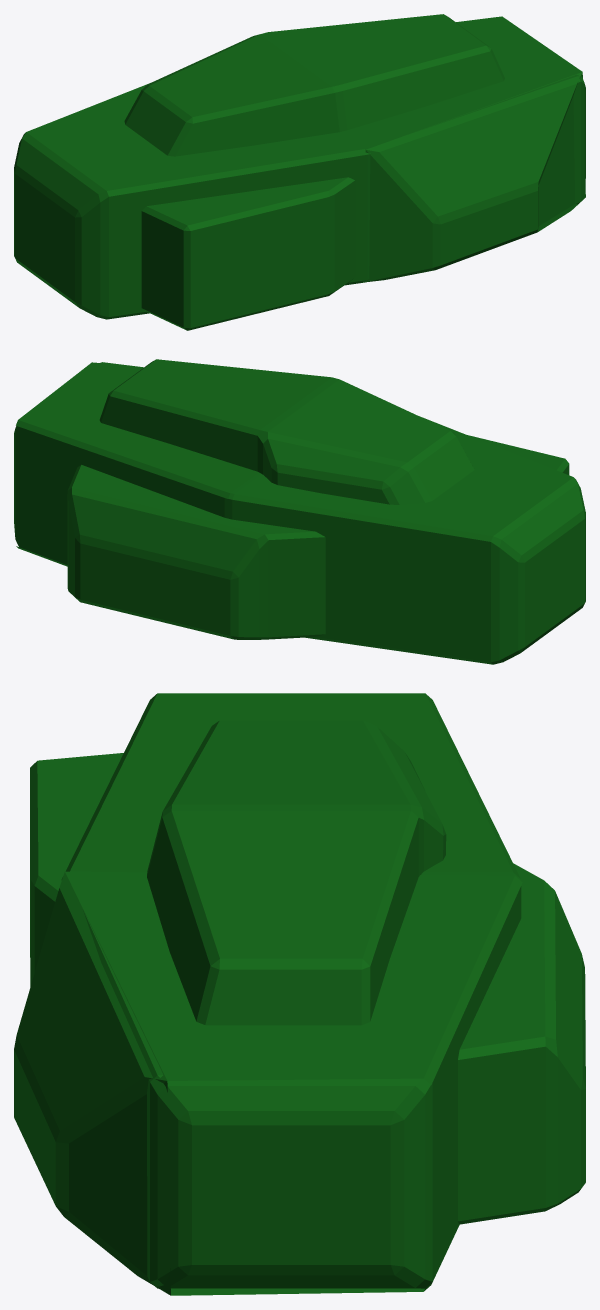
The model's file is Bush_3.fbx.
3 views of the same model, one above another, from view 1: azimuth 30°, elevation 25°; view 2: azimuth 150°, elevation 25°; view 3: azimuth 270°, elevation 25° (orthographic). The views are drawn at different scales.
Parts seen in each view (by area): view 1: Cylinder; view 2: Cylinder; view 3: Cylinder.
Boxes of the visible parts, x1=… form: Cylinder: x1=14, y1=14, x2=585, y2=330; Cylinder: x1=14, y1=359, x2=585, y2=664; Cylinder: x1=14, y1=693, x2=585, y2=1295.
Bounding box in the file's own units: 1278 × 507 × 749.
